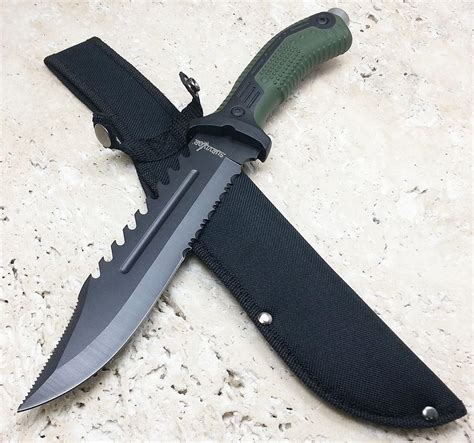knife: (17, 8, 353, 412)
